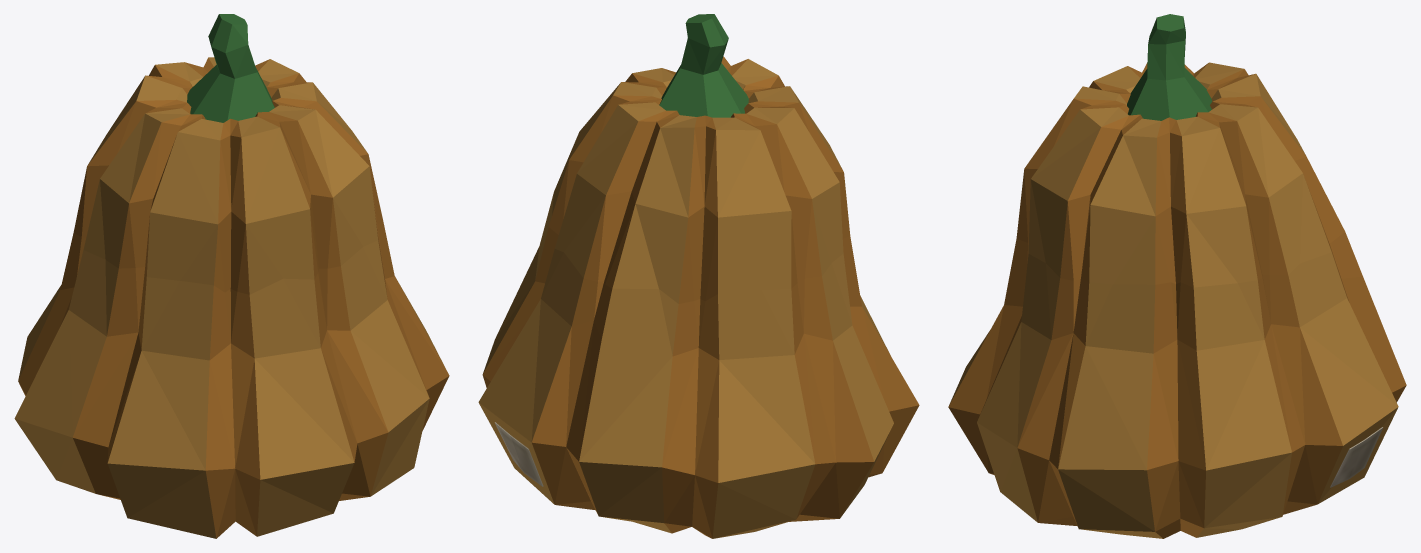
File: pumpkin-3.glb
The picture shows the model from 3 angles, left to right: view 1: azimuth 30°, elevation 25°; view 2: azimuth 150°, elevation 25°; view 3: azimuth 270°, elevation 25°; orthographic projection. The views are drawn at different scales.
Parts seen in each view (by area): view 1: SM_Prop_Pumpkin_Plastic_03; view 2: SM_Prop_Pumpkin_Plastic_03; view 3: SM_Prop_Pumpkin_Plastic_03.
Part boxes in pixels (x1,y1,x2,y2): SM_Prop_Pumpkin_Plastic_03: (14, 14, 449, 538); SM_Prop_Pumpkin_Plastic_03: (478, 14, 919, 538); SM_Prop_Pumpkin_Plastic_03: (948, 14, 1406, 538).
Bounding box in the file's own units: 63.43 × 74.96 × 64.81.
1 material, 1 textured.
